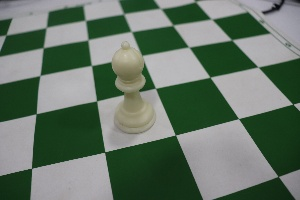white_bishop: (98, 30, 160, 140)
